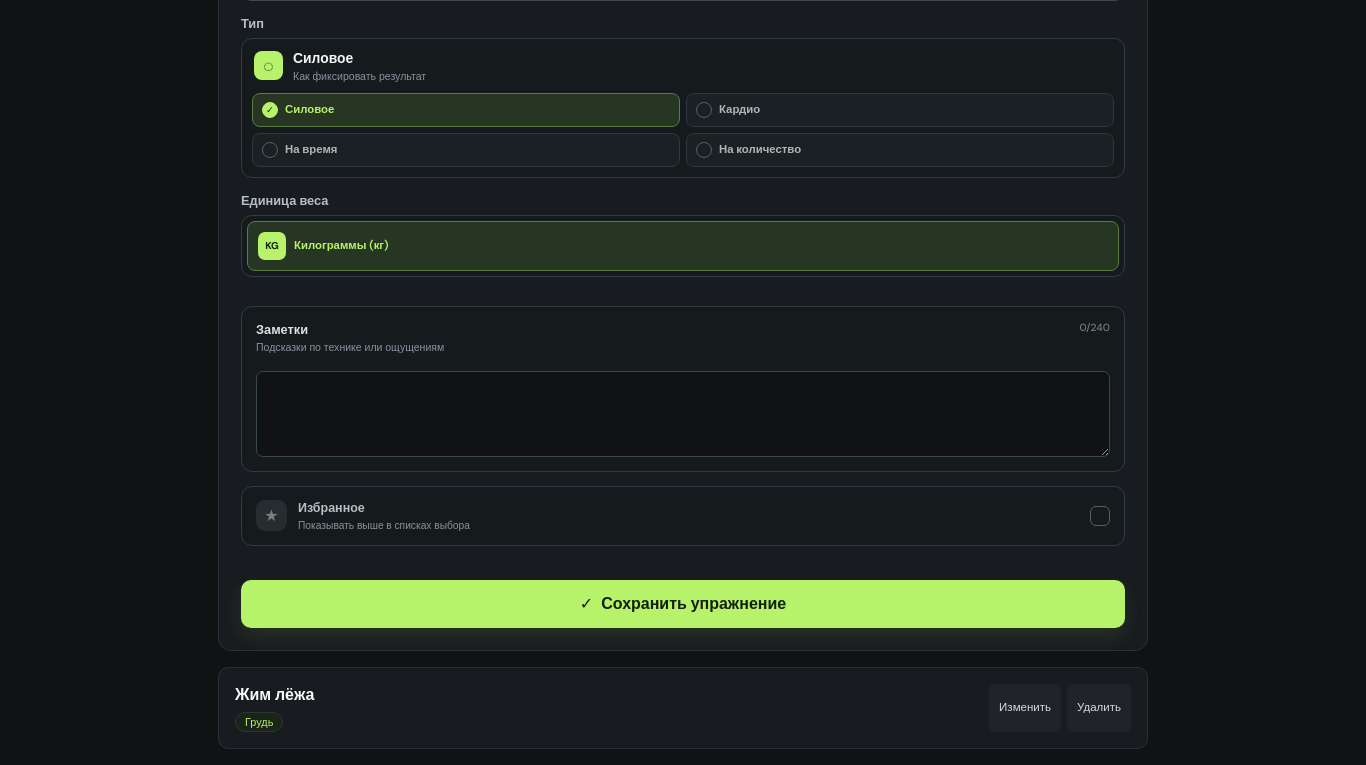
Test: ExercisePage › asks for confirmation before deleting an exercise
This screenshot has width=1366, height=765.
(page scrolled)
Expected: the text "Жим лёжа" is shown, [235,684,314,705]
Click the button with aria-label "Удалить Жим лёжа": (1099, 708) [1067,684,1131,732]
(page scrolled)
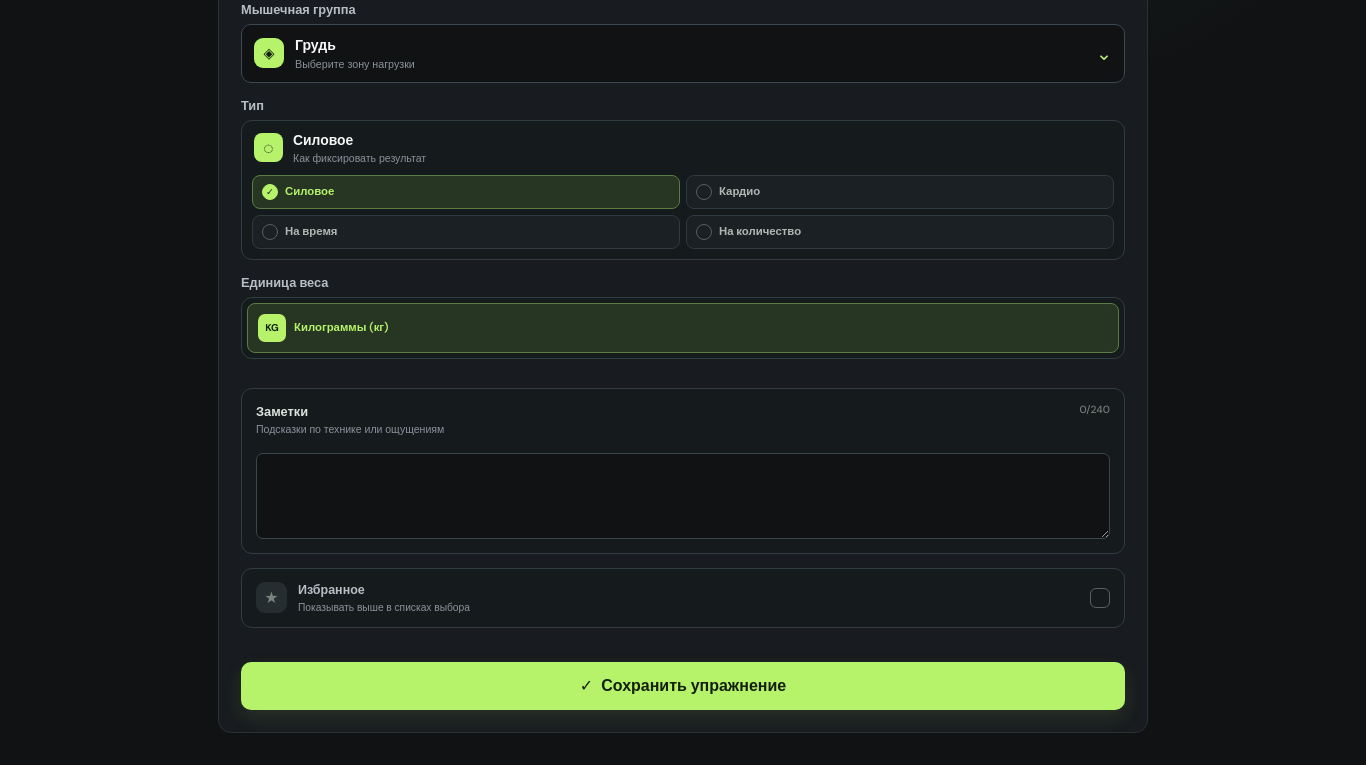
Now the text "Жим лёжа" is gone
